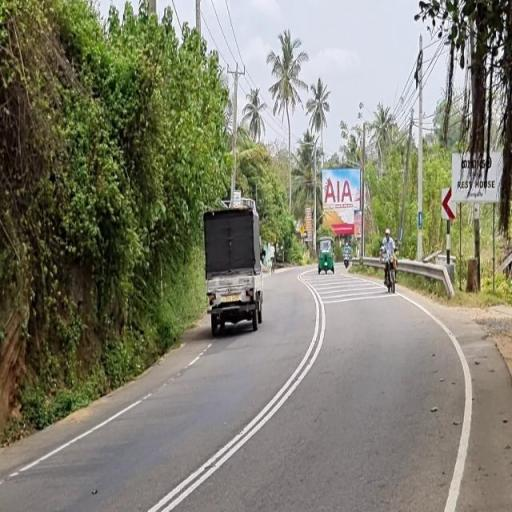double_white_line: (143, 277, 329, 511)
